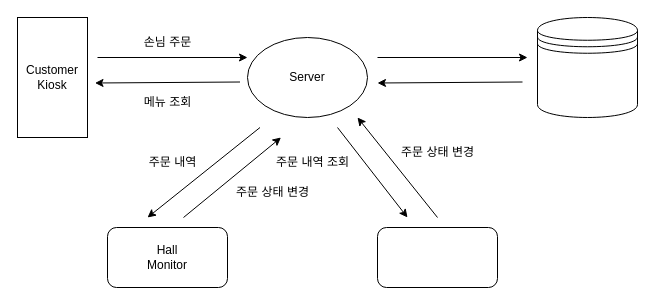
Some shapes in this 655 by 305 pixel diagram are drawn without their labels. Each missing label, with the centre of its shape:
DataBase: point 587,67
Kitchen Monitor: point 437,257
